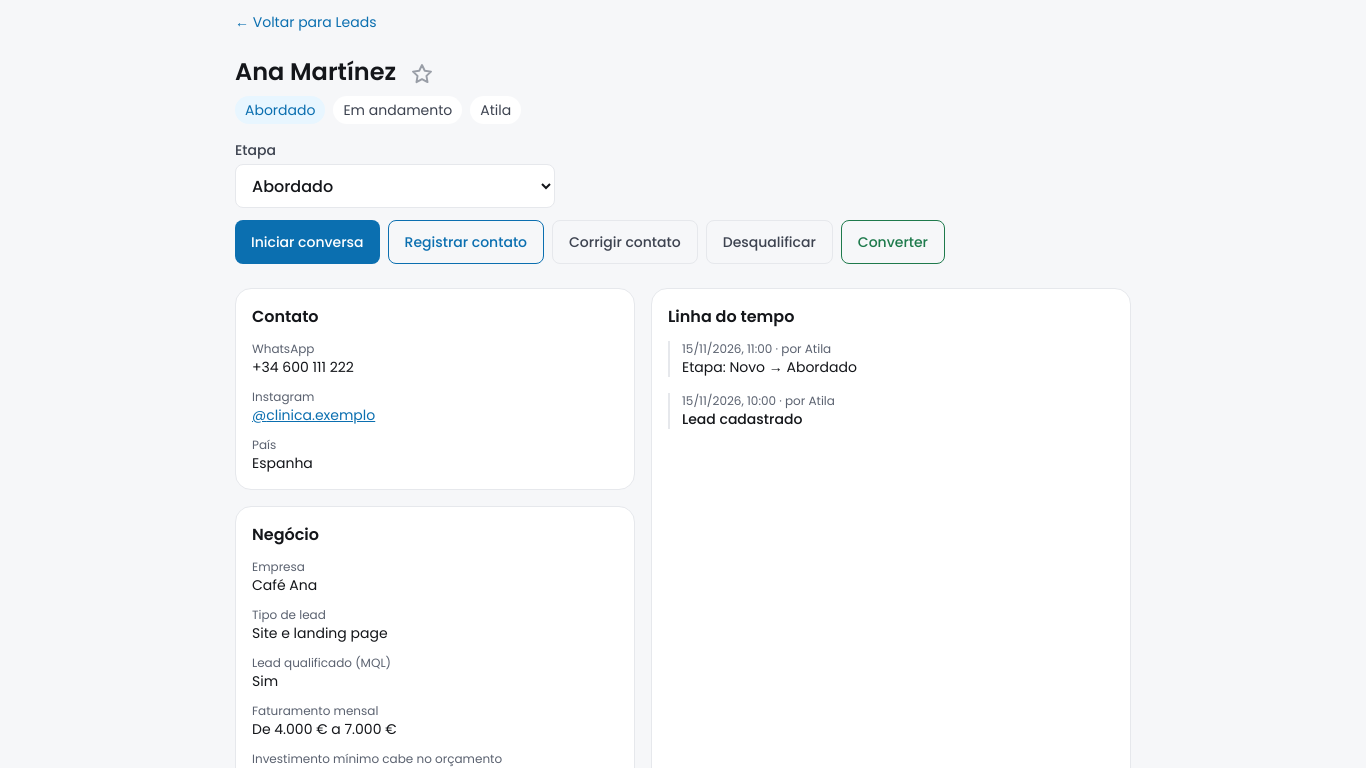
Scenario: ficha do lead › desqualificar sem motivos cadastrados avisa
What coordinates should you click on to do the following:
click the button "Desqualificar"
I would click on:
 (769, 242)
Its box is [706,220,833,264].
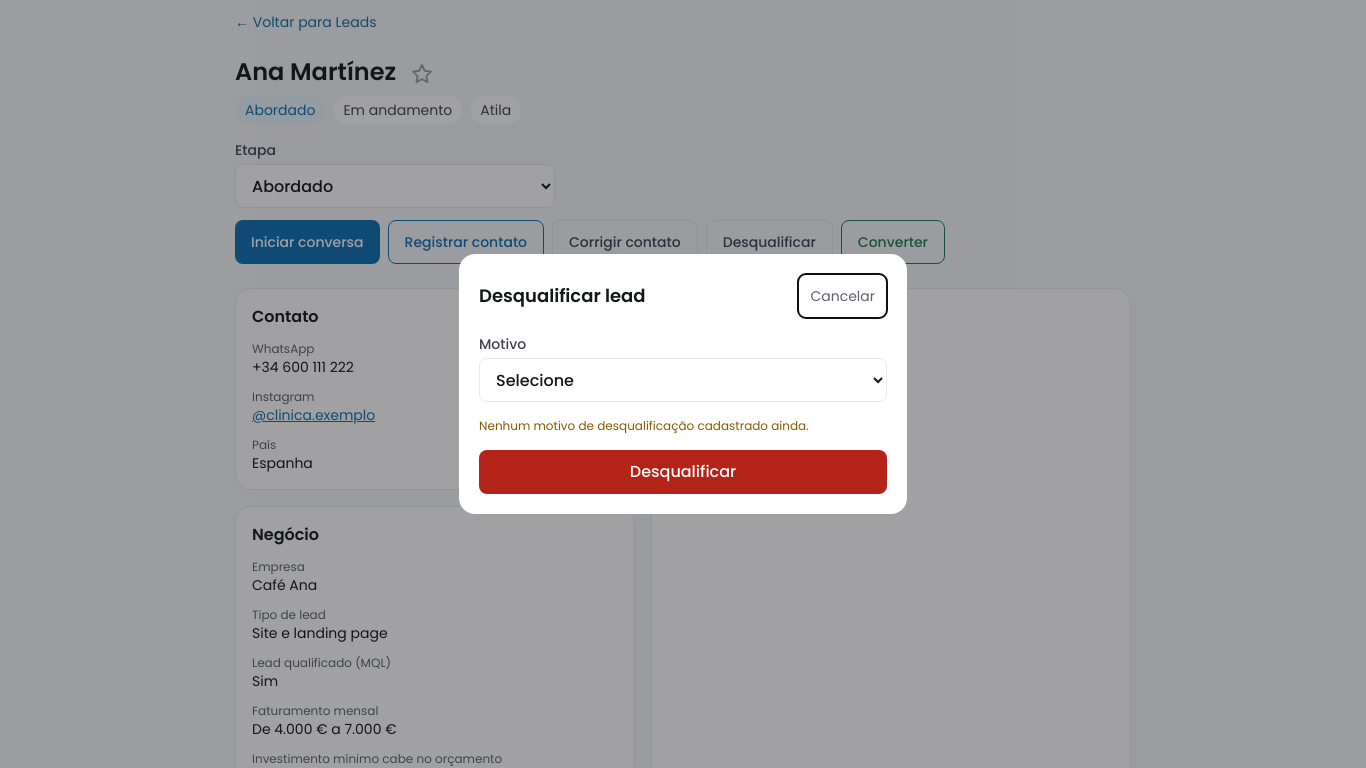
Check: the text "Nenhum motivo de desqualificação cadastrado ainda." is shown, box [479,417,809,434]
